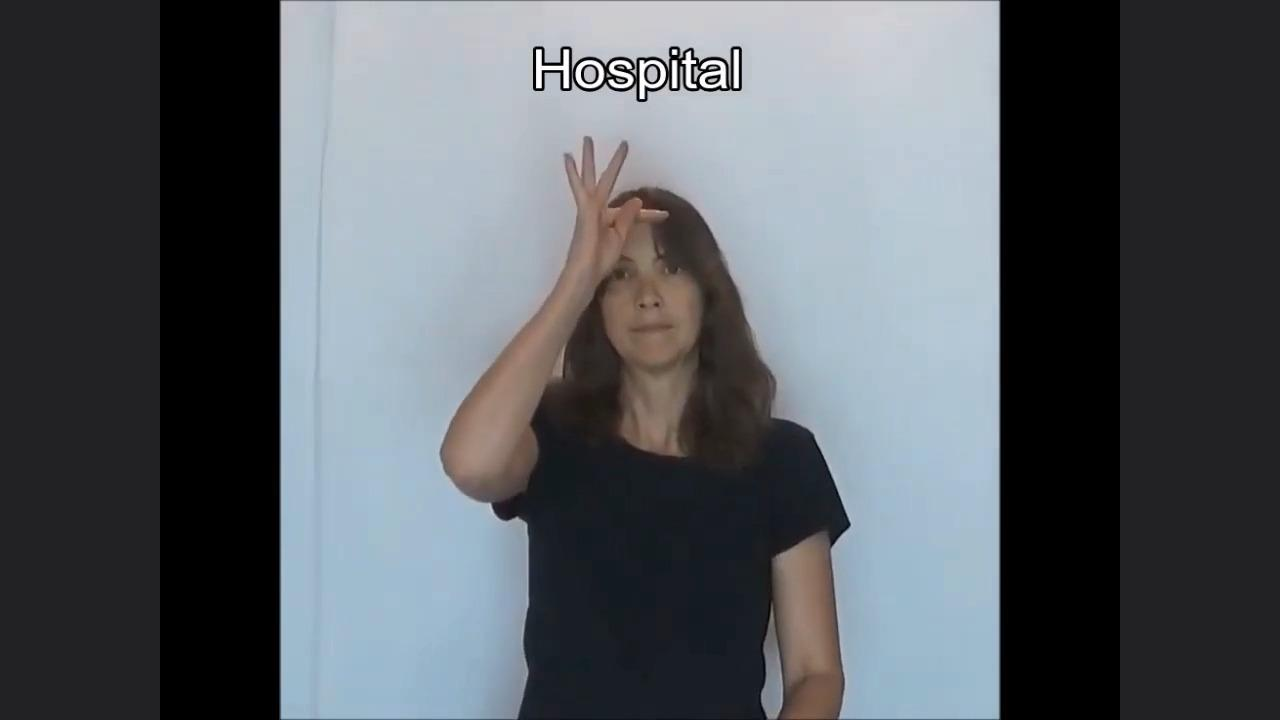Hospital: (388, 124, 935, 599)
